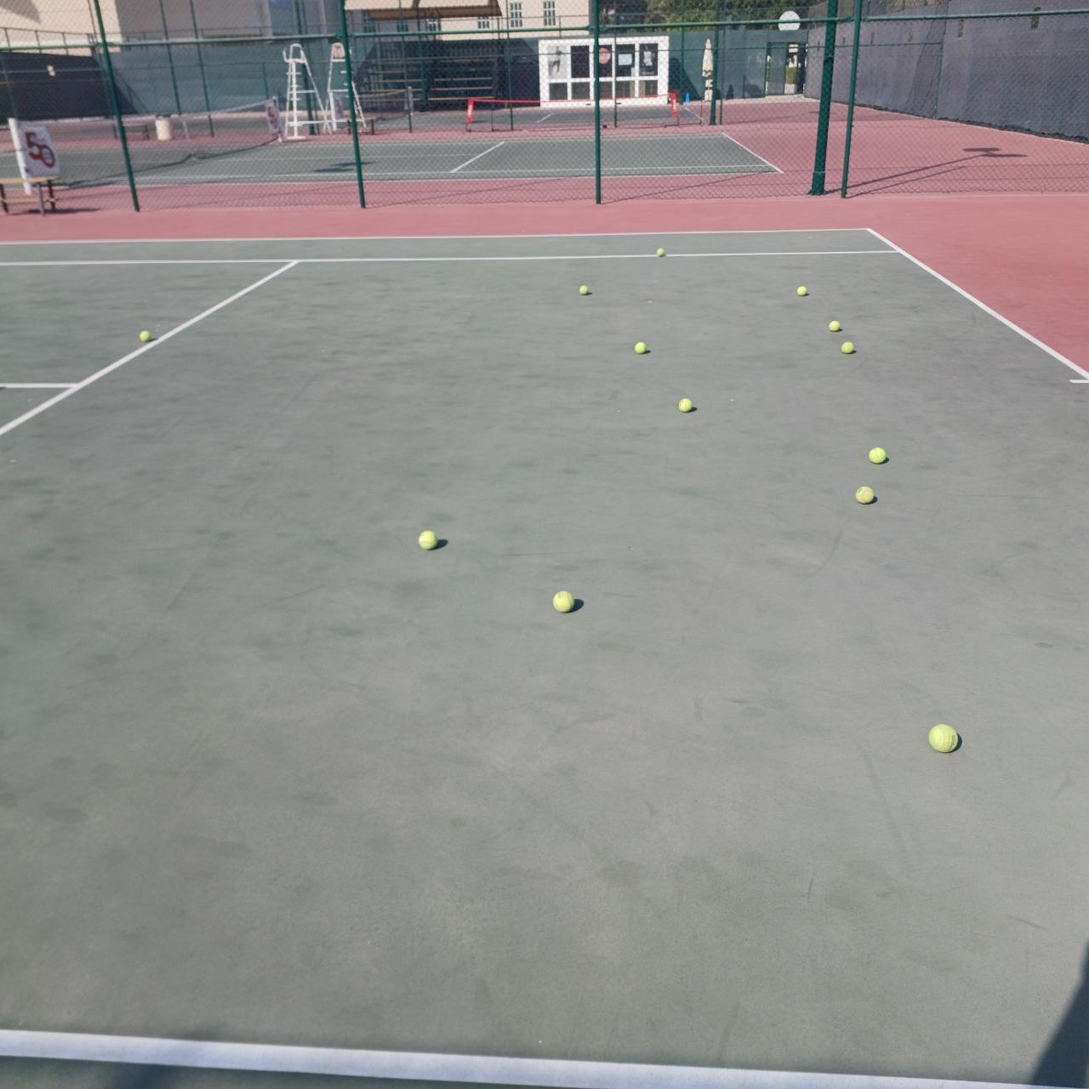tennis-ball: (926, 721, 960, 753), (550, 589, 574, 613), (416, 527, 437, 550), (854, 484, 875, 504), (867, 445, 887, 464), (678, 398, 694, 413), (137, 328, 151, 342), (841, 342, 855, 354), (828, 320, 841, 332), (634, 342, 647, 354), (796, 286, 807, 296), (579, 285, 588, 295), (657, 248, 664, 257)
